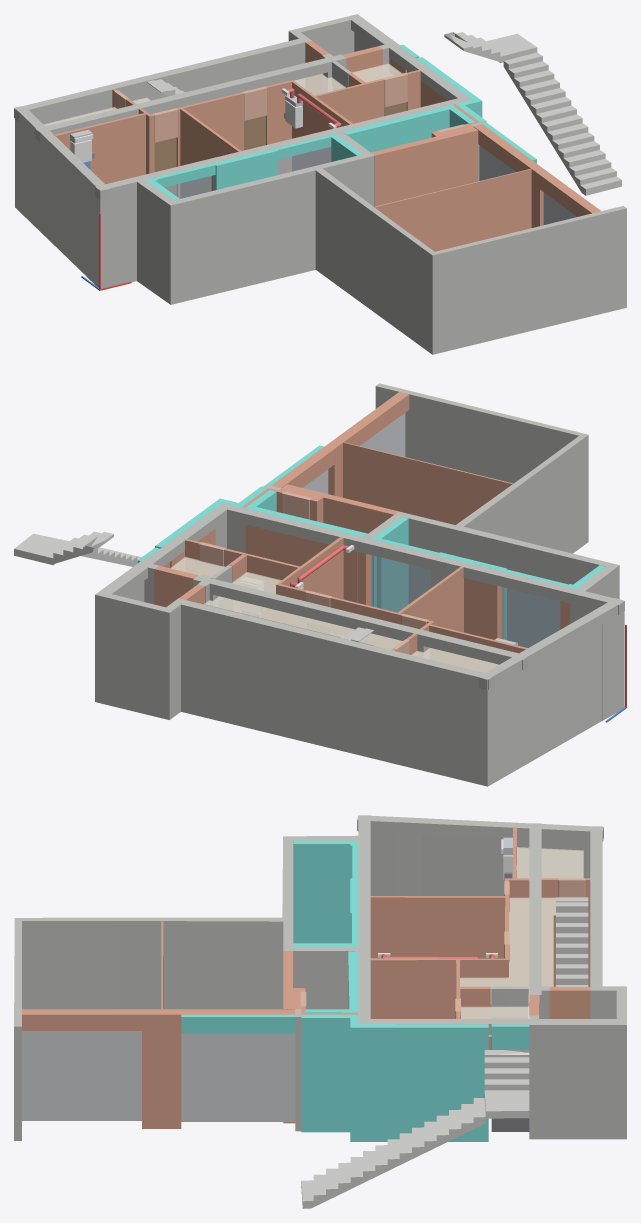
File: House_AR_BS_open.glb
3 views of the same model, one above another, from view 1: azimuth 30°, elevation 25°; view 2: azimuth 150°, elevation 25°; view 3: azimuth 270°, elevation 25° (orthographic). The views are drawn at different scales.
Visible parts, largest first — view 1: BS-RCW01, BS-RCW04, BS-RCW02, BS-INTW22, BS-ST02, BS-RCW09, BS-RCW08, BS-INTW21, BS-INTW08, BS-BEAM08, BS-BEAM05, BS-ET07 (+47 smaller); view 2: BS-RCW05, BS-COL07, BS-RCW01, BS-RCW04, BS-RCW02, BS-INTW22, BS-RCW08, BS-RCW06, BS-COL08, BS-BEAM02, BS-BEAM05, BS-BEAM08 (+39 smaller); view 3: BS-RCW02, BS-ET01, BS-COL07, BS-GD02, BS-GD01, BS-INTW09, BS-RCW08, BS-ET06, BS-ET03, BS-ST02, BS-INTW12, BS-BW01 (+33 smaller).
Part boxes in pixels (x1,y1,x2,y2): BS-RCW01: [429, 206, 626, 354]; BS-RCW04: [174, 154, 367, 302]; BS-RCW02: [315, 169, 434, 351]; BS-INTW22: [374, 168, 531, 251]; BS-ST02: [503, 52, 621, 195]; BS-RCW09: [137, 179, 178, 304]; BS-RCW08: [40, 143, 86, 275]; BS-INTW21: [371, 136, 439, 206]; BS-INTW08: [54, 113, 145, 184]; BS-BEAM08: [129, 54, 345, 114]; BS-BEAM05: [93, 37, 311, 95]; BS-ET07: [343, 105, 455, 152]; BS-RCW05: [184, 616, 385, 761]; BS-COL07: [95, 561, 188, 719]; BS-RCW01: [375, 383, 588, 543]; BS-RCW04: [402, 513, 610, 647]; BS-RCW02: [456, 436, 585, 553]; BS-INTW22: [343, 442, 513, 524]; BS-RCW08: [529, 624, 601, 762]; BS-RCW06: [405, 669, 454, 778]; BS-COL08: [454, 667, 495, 786]; BS-BEAM02: [217, 503, 469, 576]; BS-BEAM05: [174, 598, 409, 666]; BS-BEAM08: [193, 575, 427, 640]; BS-RCW02: [22, 917, 282, 1009]; BS-ET01: [350, 1024, 488, 1141]; BS-COL07: [529, 985, 626, 1139]; BS-GD02: [22, 1031, 141, 1120]; BS-GD01: [181, 1033, 295, 1121]; BS-INTW09: [370, 896, 504, 958]; BS-RCW08: [397, 833, 529, 895]; BS-ET06: [293, 840, 358, 943]; BS-ET03: [301, 1014, 358, 1132]; BS-ST02: [301, 1098, 485, 1208]; BS-INTW12: [370, 958, 455, 1018]; BS-BW01: [142, 1009, 181, 1128].
Size of the model in its own units: 16.28 by 3.1 by 15.06.
